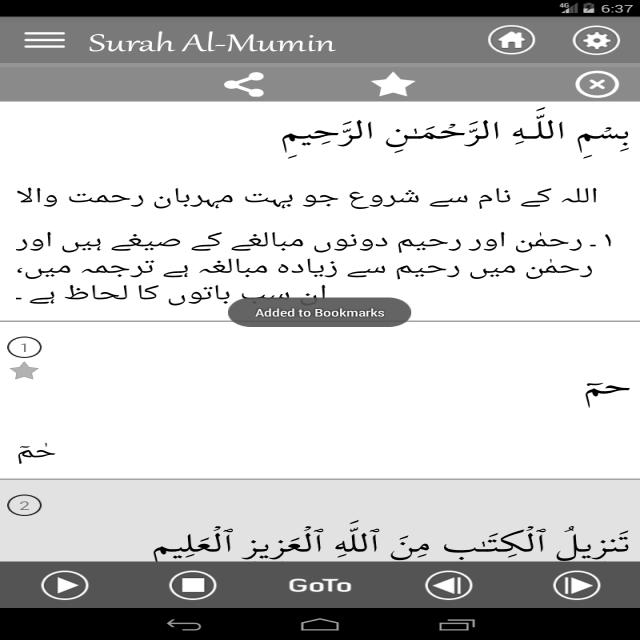ImageButton: (24, 562, 105, 600), (214, 64, 276, 100), (481, 21, 541, 57), (164, 571, 231, 601), (422, 567, 478, 601), (362, 70, 423, 100), (552, 567, 600, 599), (571, 70, 625, 98), (573, 22, 615, 56), (14, 27, 68, 51)
TextView: (13, 232, 616, 292), (4, 181, 598, 209), (145, 524, 631, 556), (277, 115, 625, 157), (76, 30, 338, 56), (568, 372, 632, 408)
